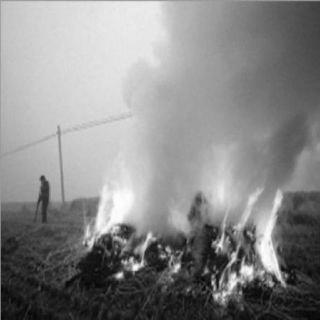Fire: (78, 185, 298, 297)
Smoke: (102, 0, 320, 209)
